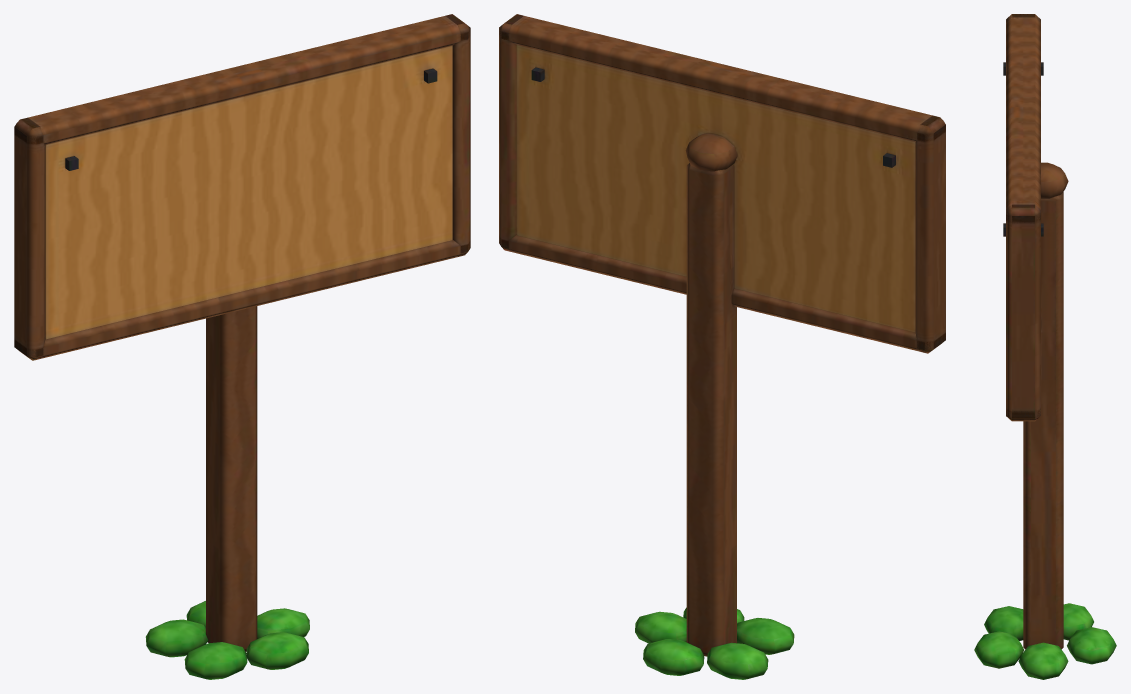
The model's file is forsale_sign.glb.
3 views of the same model, side by side, from view 1: azimuth 30°, elevation 25°; view 2: azimuth 150°, elevation 25°; view 3: azimuth 270°, elevation 25° (orthographic). The views are drawn at different scales.
Parts seen in each view (by area): view 1: forsale_sign; view 2: forsale_sign; view 3: forsale_sign.
Boxes of the visible parts, x1=… form: forsale_sign: x1=14, y1=14, x2=470, y2=679; forsale_sign: x1=499, y1=14, x2=945, y2=679; forsale_sign: x1=974, y1=14, x2=1116, y2=679.
Size of the model in its own units: 0.94 by 1.19 by 0.2847.
Materials: 1 (1 with a texture image).
